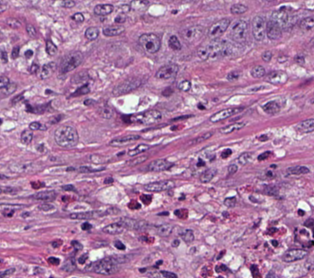nucleus: (197, 39, 232, 60), (59, 51, 83, 73), (54, 125, 78, 147), (112, 78, 143, 95), (123, 110, 161, 123), (207, 18, 229, 40), (210, 107, 242, 122), (138, 33, 160, 53), (229, 19, 247, 43), (180, 25, 204, 43), (155, 63, 178, 79), (120, 217, 148, 230), (109, 134, 139, 146), (251, 15, 265, 40), (266, 19, 282, 40), (144, 180, 174, 191), (147, 159, 173, 171), (9, 161, 35, 173), (265, 70, 287, 84), (220, 122, 245, 134), (103, 221, 126, 234), (39, 62, 56, 79), (189, 132, 212, 144), (102, 24, 124, 36), (32, 190, 56, 201), (128, 144, 149, 156), (0, 82, 16, 97), (200, 168, 216, 182), (262, 101, 279, 114), (71, 84, 89, 96), (94, 4, 113, 15), (250, 65, 265, 78), (156, 224, 172, 236), (127, 155, 146, 165), (230, 3, 247, 14), (85, 26, 98, 40), (168, 35, 180, 50), (20, 129, 32, 144), (46, 39, 57, 55), (180, 229, 193, 242), (76, 166, 104, 172), (238, 152, 251, 164), (5, 18, 20, 28), (130, 1, 148, 9), (178, 79, 190, 91), (100, 106, 112, 118), (71, 12, 84, 22), (26, 24, 36, 37), (29, 121, 45, 129), (114, 13, 125, 24), (261, 51, 272, 62), (0, 75, 10, 87), (226, 71, 239, 80), (257, 151, 270, 160), (174, 209, 187, 218), (224, 197, 236, 206), (38, 203, 53, 210), (227, 164, 237, 174), (71, 240, 82, 249), (61, 0, 75, 7), (11, 46, 19, 58), (249, 85, 265, 91), (265, 186, 277, 194), (29, 63, 38, 73), (12, 94, 22, 103), (221, 149, 231, 158), (141, 195, 151, 204), (114, 240, 124, 249), (2, 208, 13, 216), (0, 0, 7, 12), (128, 201, 140, 208), (51, 239, 61, 247), (1, 49, 7, 62), (1, 187, 16, 192), (31, 182, 43, 188), (62, 184, 74, 190), (162, 88, 172, 95), (81, 223, 91, 230), (258, 134, 268, 140), (25, 50, 32, 58), (84, 99, 93, 105), (197, 159, 204, 166), (172, 239, 179, 246), (38, 144, 43, 151), (105, 178, 112, 183), (158, 212, 167, 215), (272, 240, 277, 245)
